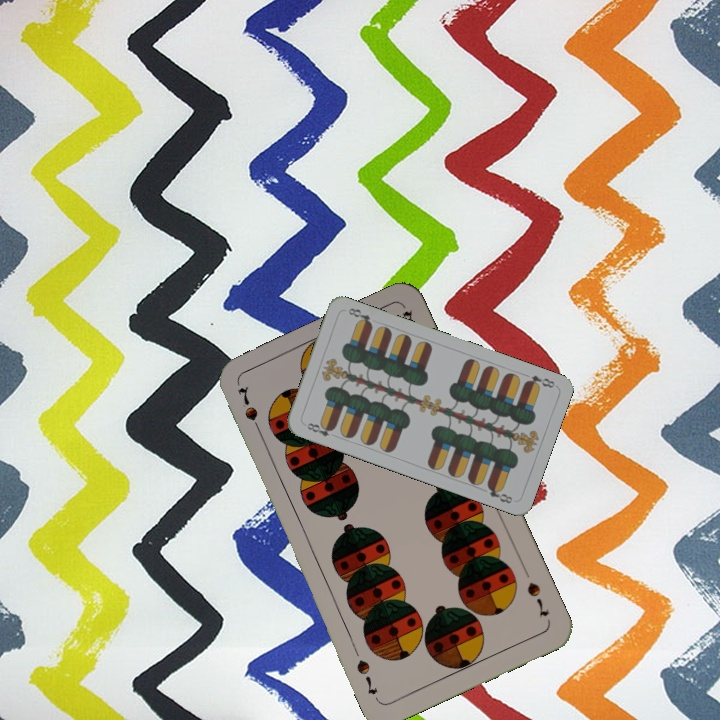E8: (300, 419, 337, 439), (520, 371, 557, 391)
S7: (233, 382, 265, 438), (522, 577, 552, 620)
